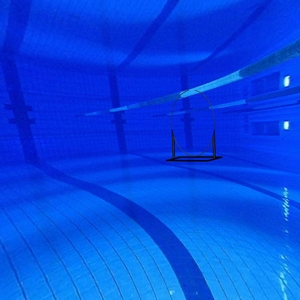circle: (165, 89, 223, 165)
